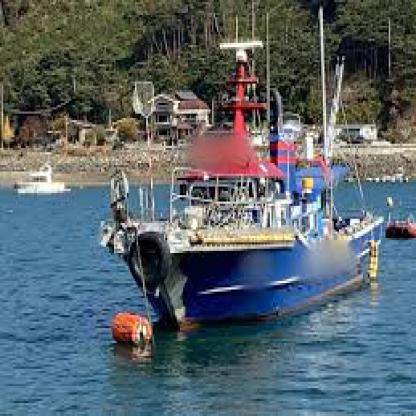fish-b: (90, 24, 395, 343)
